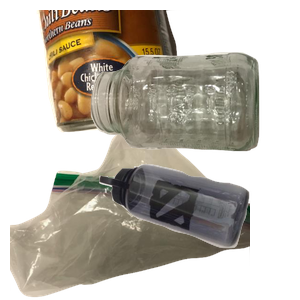glass: (88, 50, 300, 194)
metal: (34, 10, 213, 135)
plastic: (97, 162, 300, 300)
trash: (10, 134, 250, 300)
